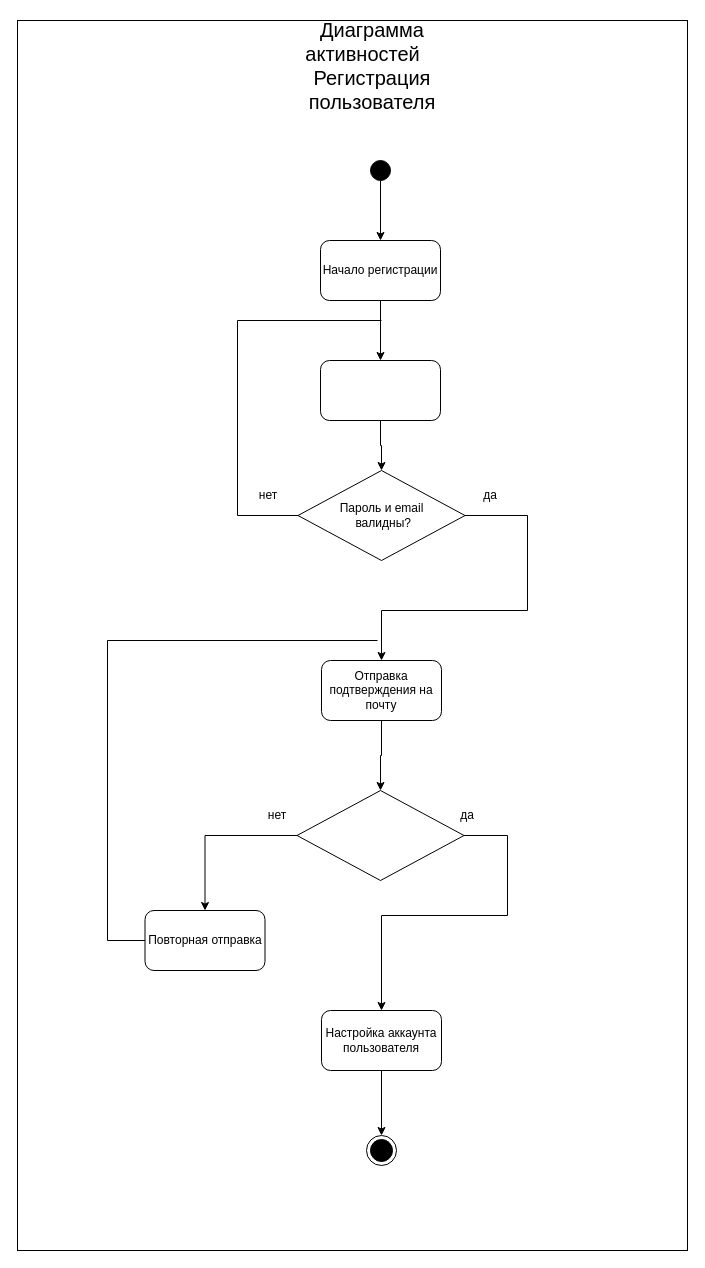
This 705x1268 diagram has some shape labels left out. The shapes that lost their labels are listed below. From the top down, each one's box as (x1, y1, x2, y2) in pixels, then its label:
(320, 360, 440, 420): Ввод email и пароля
(296, 790, 464, 880): Подтверждение пришло?
